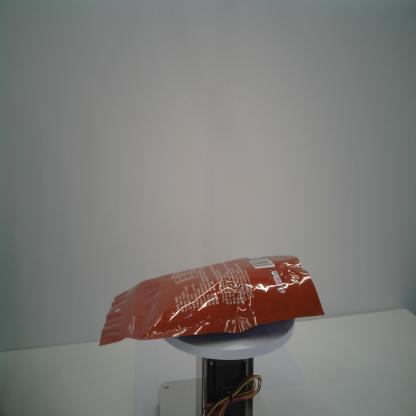Dried Food: (96, 252, 326, 348)
